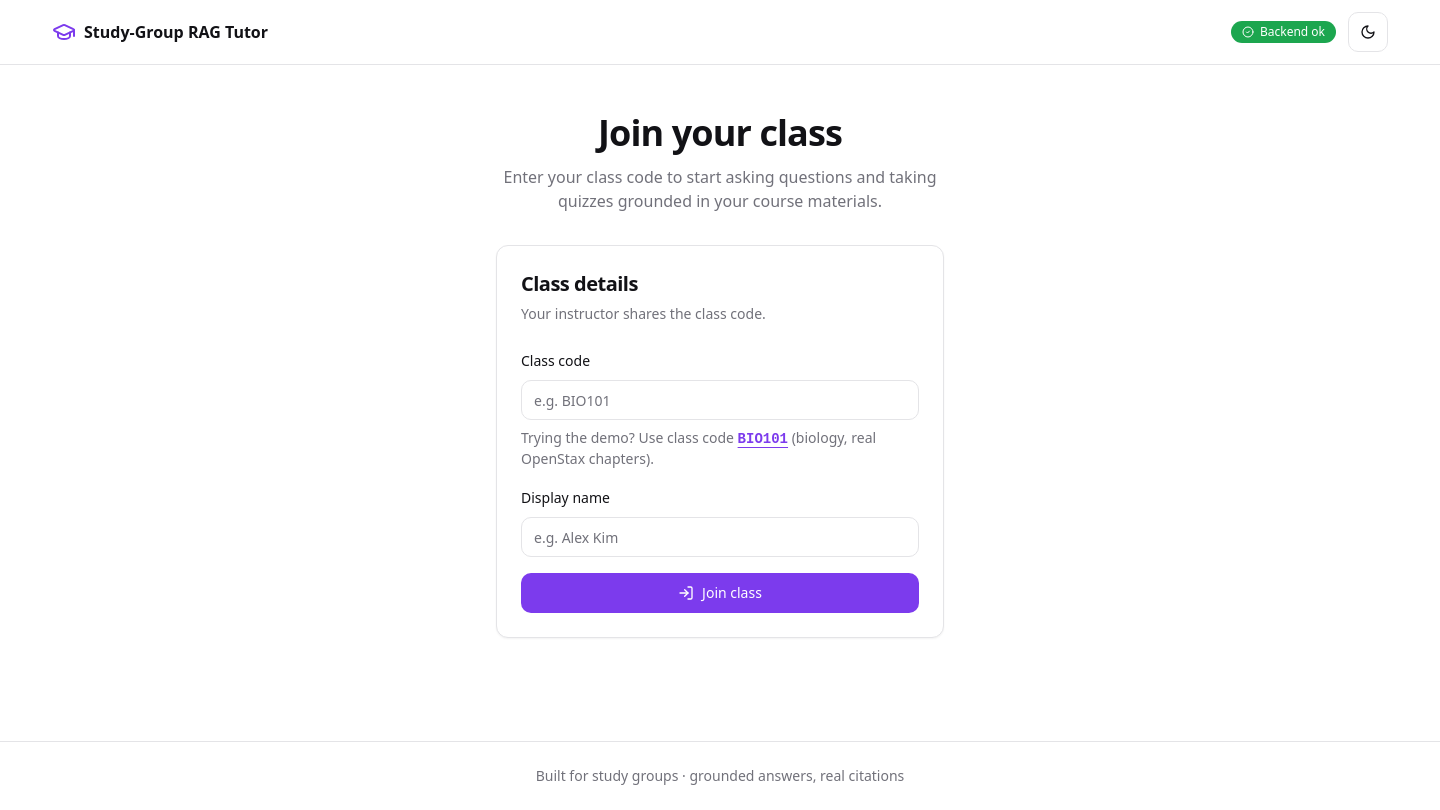
Test: JoinPage › joins, persists the session, and navigates to the course home
Type "CS101" into the field labelled "Class code". click: (720, 400)
box: [521, 380, 919, 420]
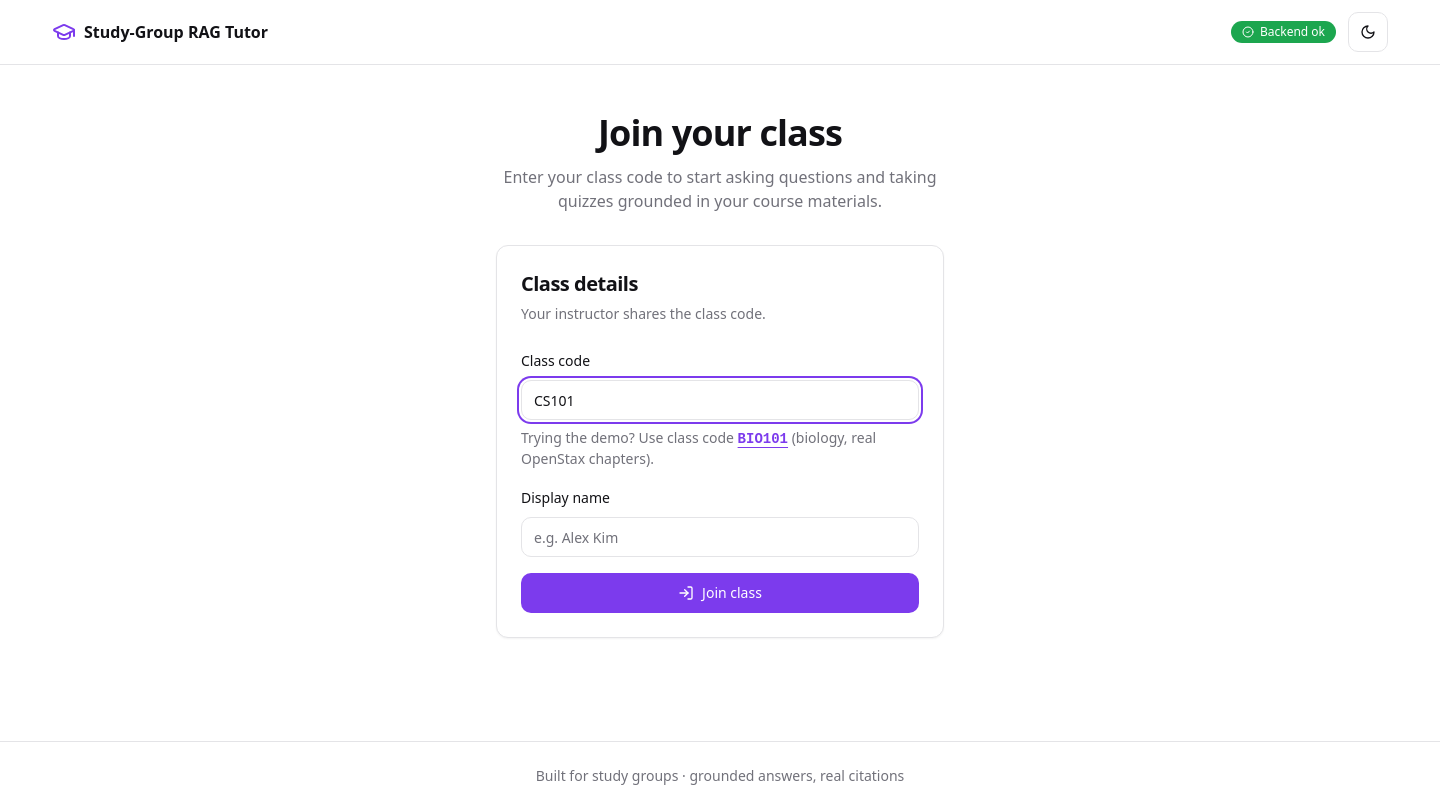
Type "Alex Kim" into the field labelled "Display name". click: (720, 537)
box: [521, 517, 919, 557]
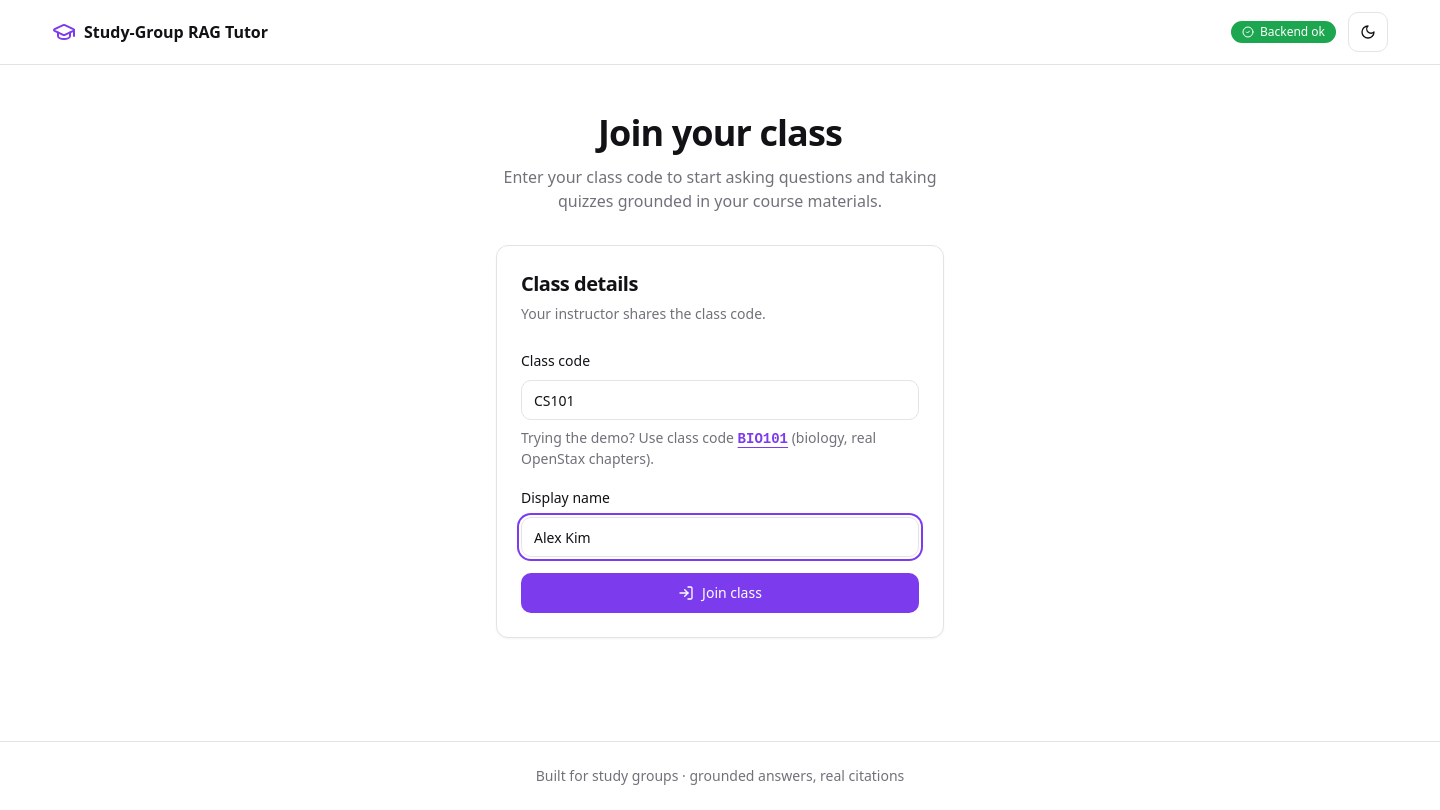
Click the button "Join class". click: click(720, 593)
box: [521, 573, 919, 613]
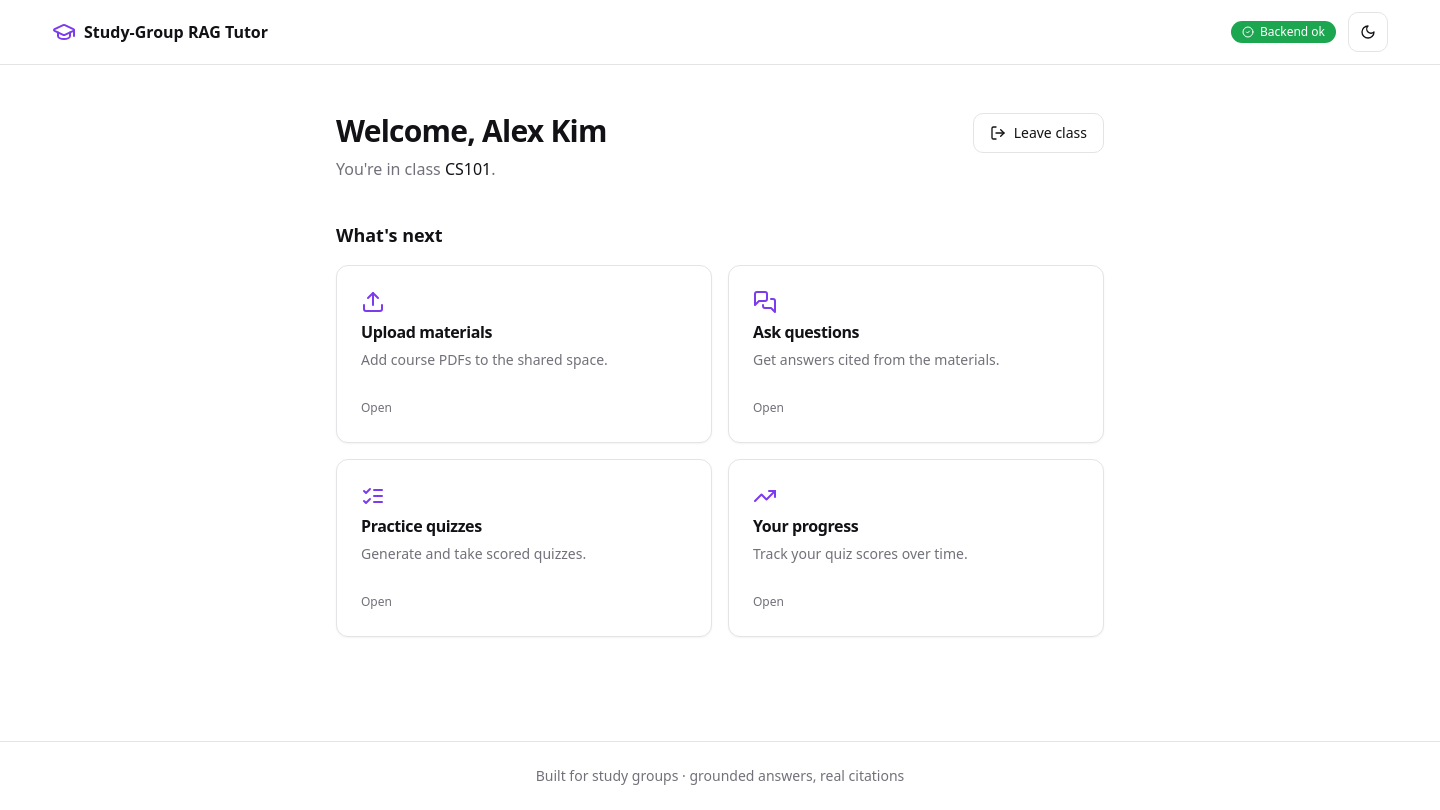
Check: the heading "Welcome, Alex Kim" is shown, box [336, 113, 607, 149]
